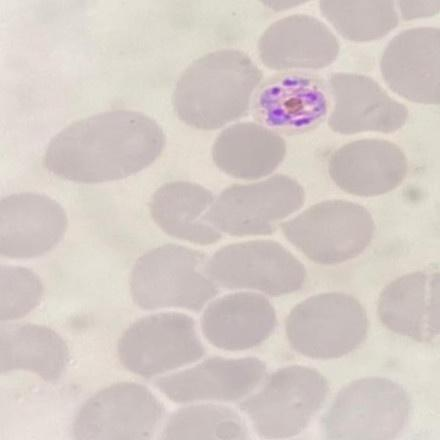Infected: (251, 68, 334, 135)
Uninfected: (42, 109, 166, 185), (174, 46, 262, 129), (242, 363, 327, 440), (280, 198, 374, 266), (118, 309, 204, 383), (196, 176, 302, 236), (199, 238, 304, 296), (321, 376, 413, 440), (149, 356, 266, 404), (287, 290, 368, 358), (131, 246, 212, 313), (323, 68, 405, 132), (69, 384, 159, 440), (331, 137, 410, 198), (0, 191, 68, 261), (150, 180, 219, 247), (256, 16, 338, 72), (376, 267, 440, 338), (202, 293, 279, 351), (212, 119, 284, 180), (382, 26, 440, 100), (321, 0, 396, 40)
